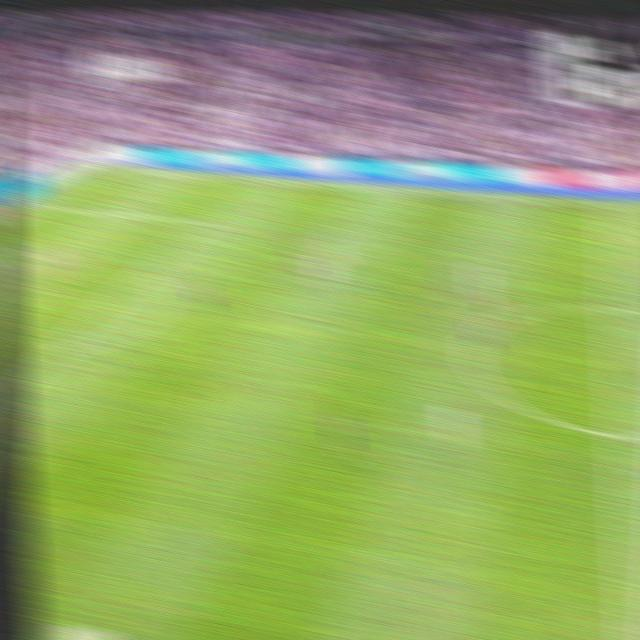bigarea_top_inner: (191, 211, 214, 229)
bigarea_top_outter: (29, 196, 51, 210)
bottom_arc_area_intersection: (48, 338, 72, 359)
corner: (94, 160, 115, 174)
halfcircle_bottom: (602, 416, 632, 453)
halfcircle_top: (596, 291, 625, 325)
midline_top_intersection: (595, 195, 619, 215)
smallarea_top_inner: (20, 244, 38, 258)
top_arc_area_intersection: (137, 261, 158, 280)
